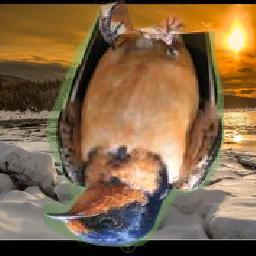Swallow: (44, 1, 224, 248)
